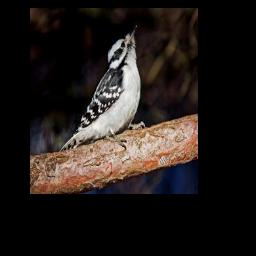Woodpecker: (60, 22, 148, 151)
